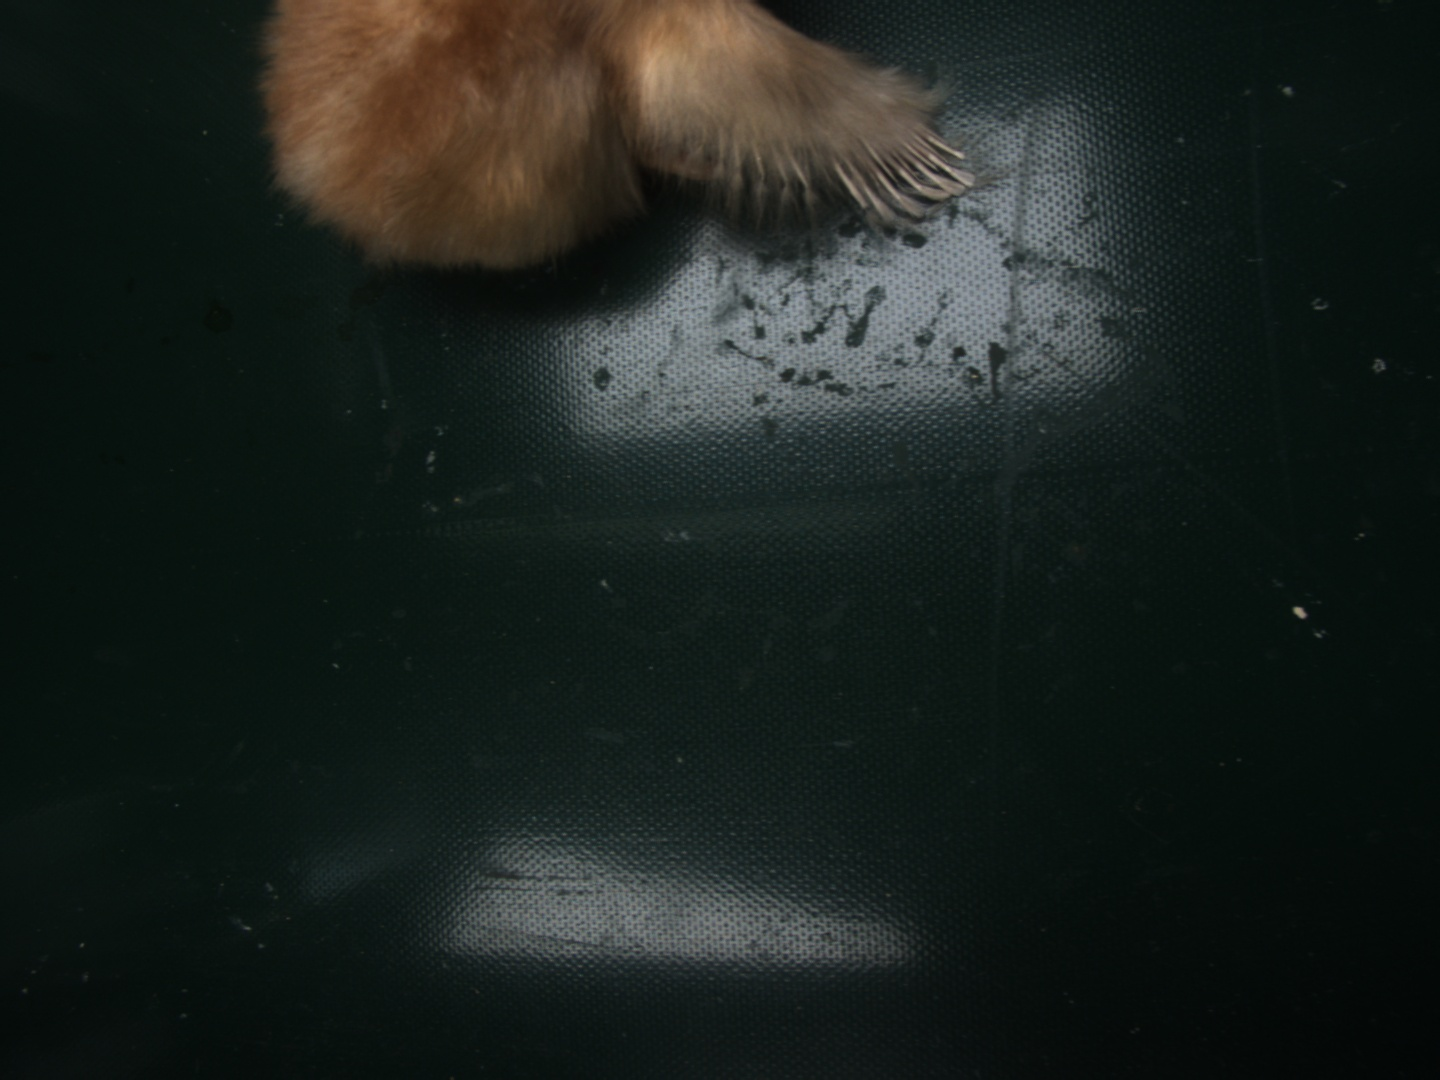female: (835, 123, 975, 231)
